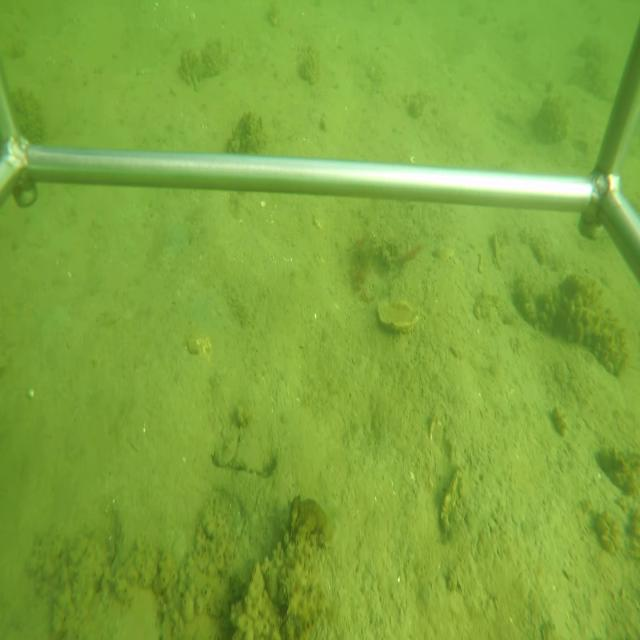Oyster-Closed: (490, 231, 503, 274)
Oyster-Indeterminate: (438, 469, 465, 539)
